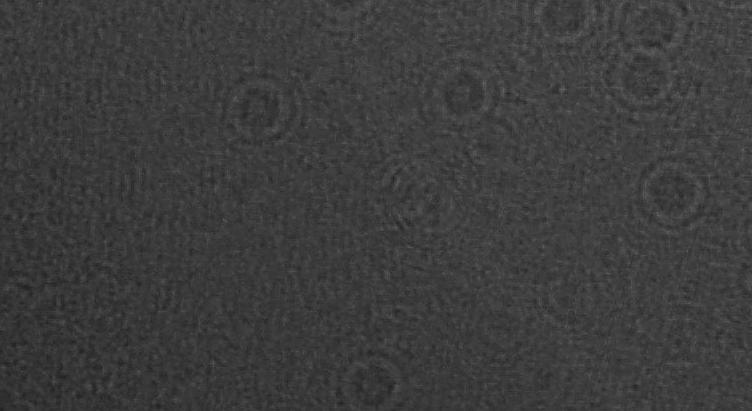bead: (204, 54, 306, 158), (401, 47, 509, 138), (625, 147, 720, 237), (600, 47, 696, 122), (324, 342, 416, 411), (605, 0, 705, 62), (514, 0, 612, 49), (293, 0, 385, 40)
